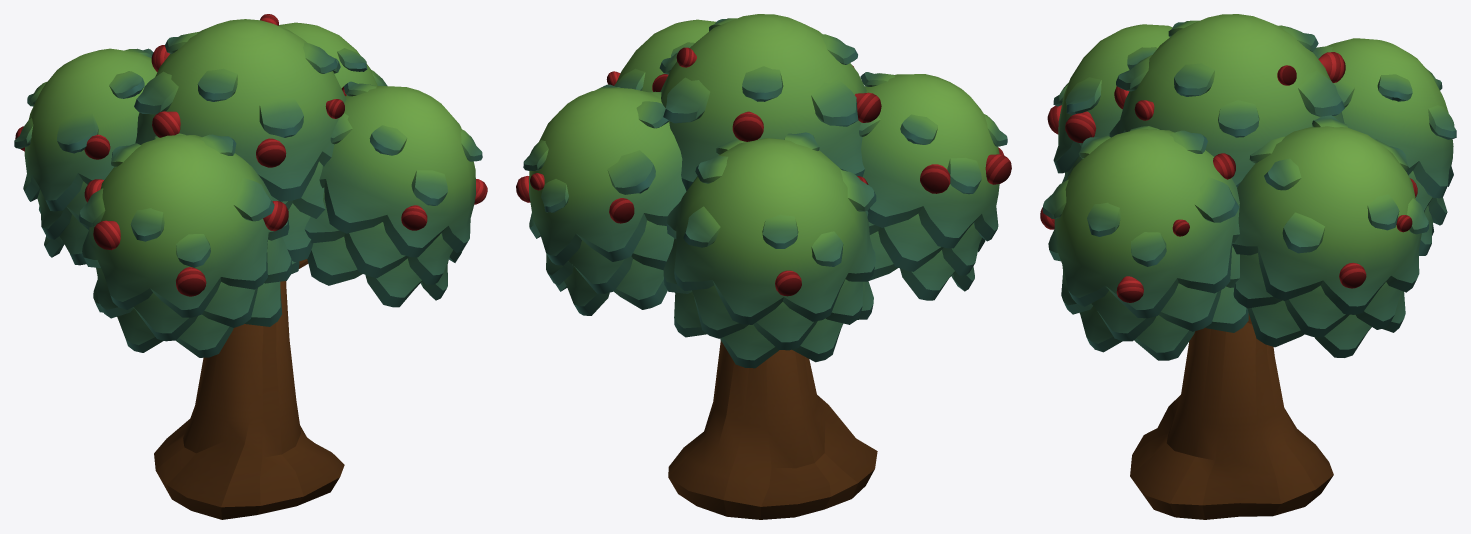
The model's file is Tree-5-2.fbx.
3 views of the same model, side by side, from view 1: azimuth 30°, elevation 25°; view 2: azimuth 150°, elevation 25°; view 3: azimuth 270°, elevation 25° (orthographic). The views are drawn at different scales.
Parts seen in each view (by area): view 1: Tree-5-2; view 2: Tree-5-2; view 3: Tree-5-2.
Part boxes in pixels (x1,y1,x2,y2): Tree-5-2: [14, 14, 487, 519]; Tree-5-2: [516, 14, 1011, 519]; Tree-5-2: [1040, 14, 1456, 519].
Size of the model in its own units: 1426 by 1583 by 1293.
